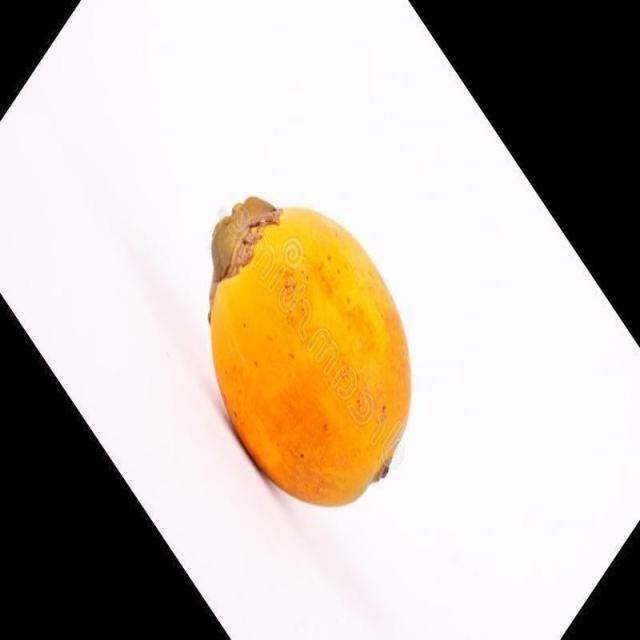good: (208, 199, 412, 510)
